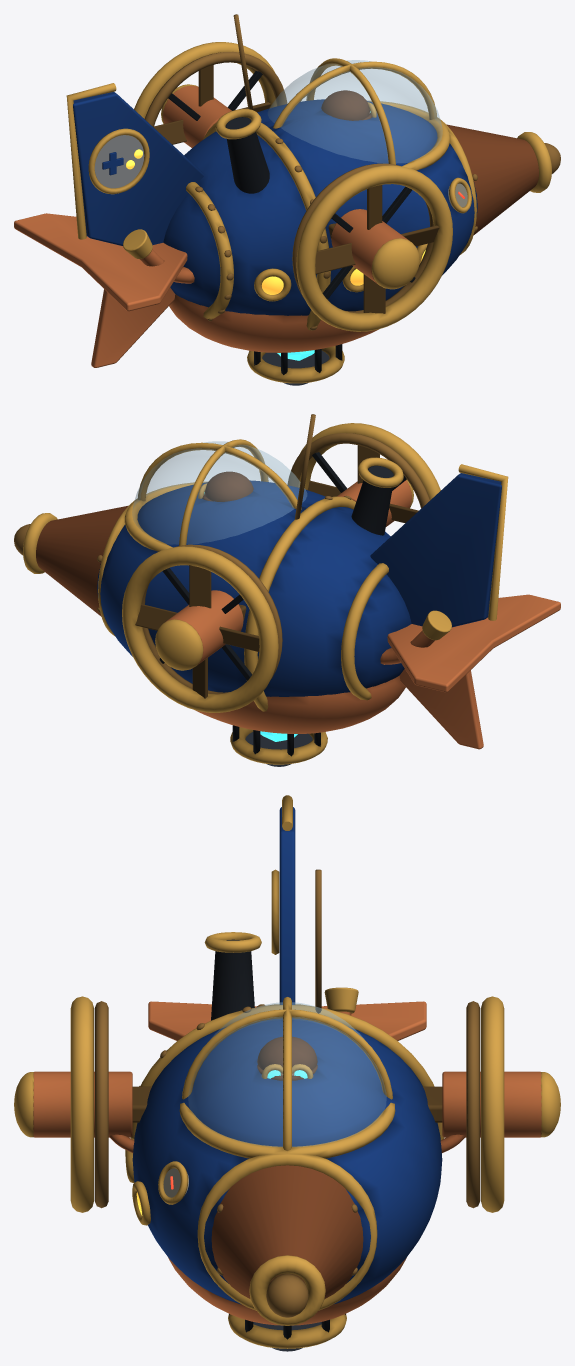
The model's file is drone.glb.
The picture shows the model from 3 angles, top to bottom: view 1: azimuth 30°, elevation 25°; view 2: azimuth 150°, elevation 25°; view 3: azimuth 270°, elevation 25°; orthographic projection. The views are drawn at different scales.
Visible parts, largest first — view 1: Body, Canopy, PropL, PropR; view 2: Body, Canopy, PropR, PropL; view 3: Body, Canopy.
Boxes of the visible parts, bbox=[...] form: Body: bbox=[14, 14, 560, 385]; Canopy: bbox=[268, 60, 442, 163]; PropL: bbox=[315, 185, 439, 313]; PropR: bbox=[154, 65, 270, 144]; Body: bbox=[14, 414, 560, 766]; Canopy: bbox=[132, 441, 306, 544]; PropR: bbox=[135, 565, 259, 698]; PropL: bbox=[307, 445, 418, 523]; Body: bbox=[14, 795, 560, 1351]; Canopy: bbox=[188, 1002, 386, 1146].
Size of the model in its own units: 1.79 by 1.27 by 1.41.
